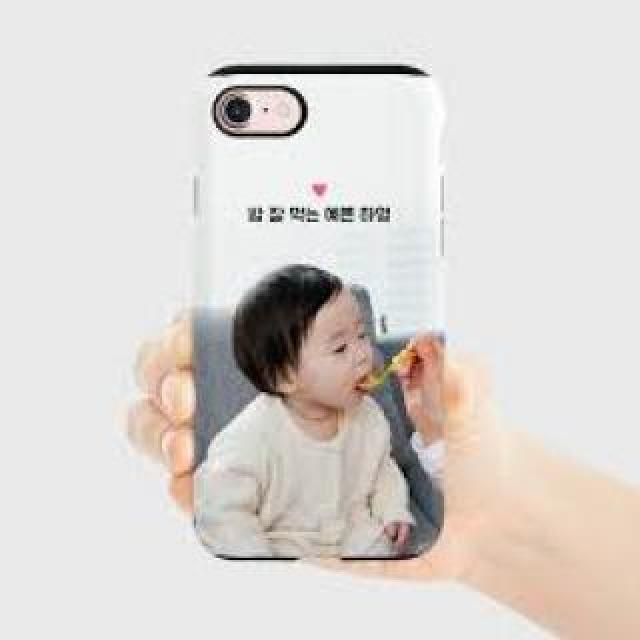smart phone: (198, 40, 514, 605)
